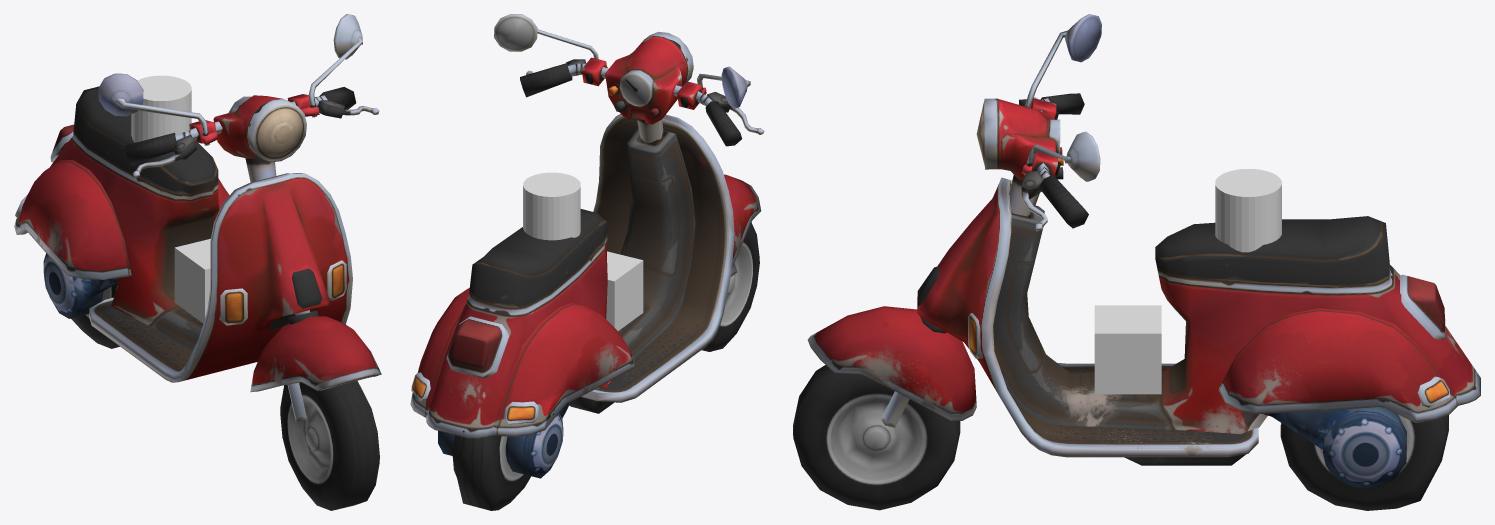
File: scooter-meshopt.glb
The picture shows the model from 3 angles, left to right: view 1: azimuth 30°, elevation 25°; view 2: azimuth 150°, elevation 25°; view 3: azimuth 270°, elevation 25°; orthographic projection. The views are drawn at different scales.
Parts seen in each view (by area): view 1: Donut_Scooter_Gadget_3_0, TimeframeMainGroup.003, FrontWheel_Mesh, TimeframeMainGroup.002, Motor, Battery, TimeframeMainGroup.001, TimeframeMainGroup.005, TimeframeMainGroup.006, RearWheel_Mesh; view 2: Donut_Scooter_Gadget_3_0, TimeframeMainGroup.003, RearWheel_Mesh, Motor, FrontWheel_Mesh, TimeframeMainGroup.001, Battery, TimeframeMainGroup.002, TimeframeMainGroup.006, TimeframeMainGroup.005; view 3: Donut_Scooter_Gadget_3_0, FrontWheel_Mesh, TimeframeMainGroup.002, TimeframeMainGroup.003, TimeframeMainGroup.001, RearWheel_Mesh, Battery, Motor, TimeframeMainGroup.005, TimeframeMainGroup.006.
Part boxes in pixels (x1=…): Donut_Scooter_Gadget_3_0: x1=14, y1=86, x2=352, y2=421; TimeframeMainGroup.003: x1=116, y1=38, x2=379, y2=182; FrontWheel_Mesh: x1=280, y1=381, x2=379, y2=510; TimeframeMainGroup.002: x1=250, y1=316, x2=381, y2=392; Motor: x1=131, y1=75, x2=191, y2=142; Battery: x1=174, y1=238, x2=210, y2=323; TimeframeMainGroup.001: x1=43, y1=253, x2=117, y2=318; TimeframeMainGroup.005: x1=98, y1=73, x2=143, y2=116; TimeframeMainGroup.006: x1=333, y1=14, x2=362, y2=59; RearWheel_Mesh: x1=71, y1=283, x2=119, y2=348; Donut_Scooter_Gadget_3_0: x1=410, y1=114, x2=737, y2=438; TimeframeMainGroup.003: x1=520, y1=29, x2=764, y2=146; RearWheel_Mesh: x1=451, y1=435, x2=530, y2=510; Motor: x1=523, y1=172, x2=580, y2=240; FrontWheel_Mesh: x1=701, y1=223, x2=759, y2=351; TimeframeMainGroup.001: x1=438, y1=402, x2=570, y2=478; Battery: x1=606, y1=251, x2=643, y2=330; TimeframeMainGroup.002: x1=724, y1=174, x2=761, y2=267; TimeframeMainGroup.006: x1=494, y1=14, x2=537, y2=51; TimeframeMainGroup.005: x1=721, y1=66, x2=747, y2=108; Donut_Scooter_Gadget_3_0: x1=881, y1=177, x2=1480, y2=465; FrontWheel_Mesh: x1=793, y1=365, x2=960, y2=510; TimeframeMainGroup.002: x1=807, y1=306, x2=976, y2=420; TimeframeMainGroup.003: x1=976, y1=30, x2=1088, y2=231; TimeframeMainGroup.001: x1=1263, y1=407, x2=1406, y2=489; RearWheel_Mesh: x1=1280, y1=414, x2=1448, y2=510; Battery: x1=1094, y1=305, x2=1161, y2=394; Motor: x1=1215, y1=169, x2=1281, y2=252; TimeframeMainGroup.005: x1=1065, y1=14, x2=1101, y2=62; TimeframeMainGroup.006: x1=1066, y1=131, x2=1100, y2=181.
Bounding box in the file's own units: 0.9898 × 1.42 × 2.06.
8 materials, 8 textured.
